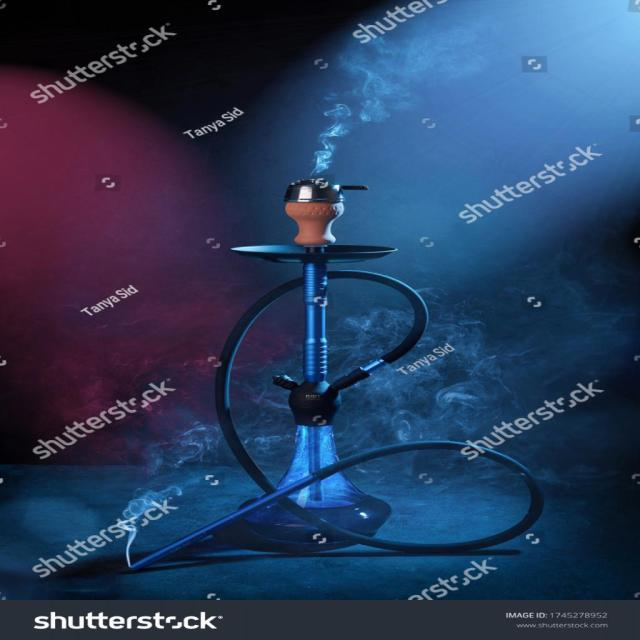smoking: (109, 167, 546, 571)
